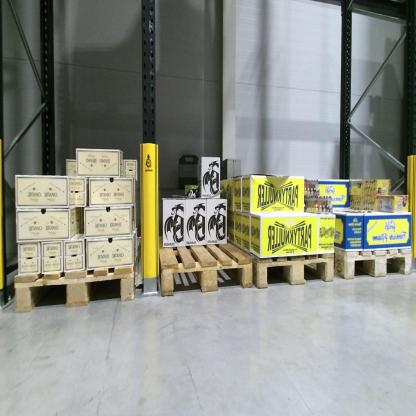pallet: (14, 236, 148, 316), (235, 219, 341, 292), (157, 230, 256, 297), (332, 239, 411, 283)
